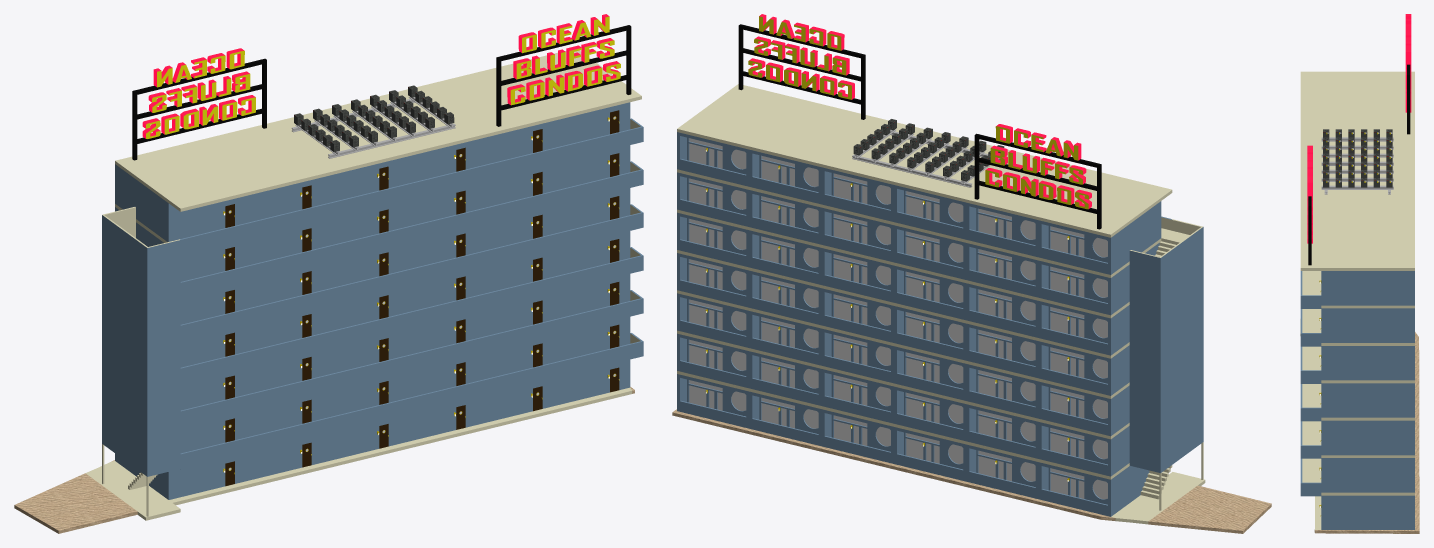
File: Beach Condo.glb
3 renders of one model, left to right at view 1: azimuth 30°, elevation 25°; view 2: azimuth 150°, elevation 25°; view 3: azimuth 270°, elevation 25°, orthographic. The views are drawn at different scales.
Visible parts, largest first — view 1: Upper Floors, Roof, 1st Floor, Stair Border, Sign, CU, Ground; view 2: Upper Floors, Roof, 1st Floor, Stair Border, Sign, Ground, CU, Stairs; view 3: Upper Floors, Roof, CU, 1st Floor, Sign, Ground.
Part boxes in pixels (box(x1,y1,x2,y2)): Upper Floors: box(115, 102, 643, 469); Roof: box(115, 50, 641, 211); 1st Floor: box(85, 359, 632, 520); Stair Border: box(102, 207, 180, 516); Sign: box(132, 14, 631, 160); CU: box(291, 85, 455, 158); Ground: box(14, 387, 634, 533); Upper Floors: box(677, 132, 1171, 479); Roof: box(677, 84, 1172, 237); 1st Floor: box(677, 374, 1205, 524); Stair Border: box(1129, 219, 1203, 510); Sign: box(738, 14, 1101, 229); Ground: box(672, 409, 1271, 533); CU: box(852, 119, 1004, 187); Stairs: box(1140, 241, 1175, 499); Upper Floors: box(1300, 271, 1414, 496); Roof: box(1300, 71, 1414, 270); CU: box(1321, 129, 1393, 194); 1st Floor: box(1300, 319, 1414, 529); Sign: box(1307, 14, 1411, 265); Ground: box(1314, 332, 1419, 533).
Bounding box in the file's own units: 56.53 × 35.85 × 11.46.
16 materials, 1 textured.
